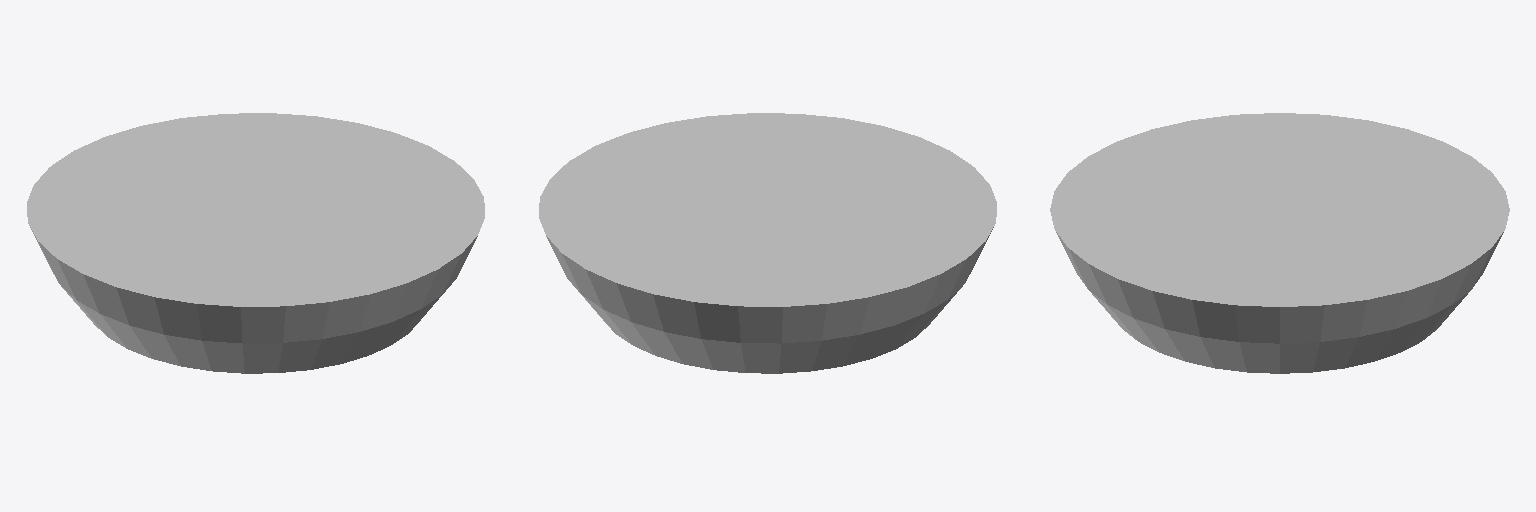
Rendered from bowl_collider.obj.
3 views of the same model, side by side, from view 1: azimuth 30°, elevation 25°; view 2: azimuth 150°, elevation 25°; view 3: azimuth 270°, elevation 25° (orthographic).
Visible parts, largest first — view 1: Bowl_collider; view 2: Bowl_collider; view 3: Bowl_collider.
Boxes of the visible parts, x1,y1,x2,y2 form: Bowl_collider: [27, 113, 484, 373]; Bowl_collider: [539, 113, 996, 373]; Bowl_collider: [1050, 113, 1509, 373].
Size of the model in its own units: 2 by 0.4409 by 2.